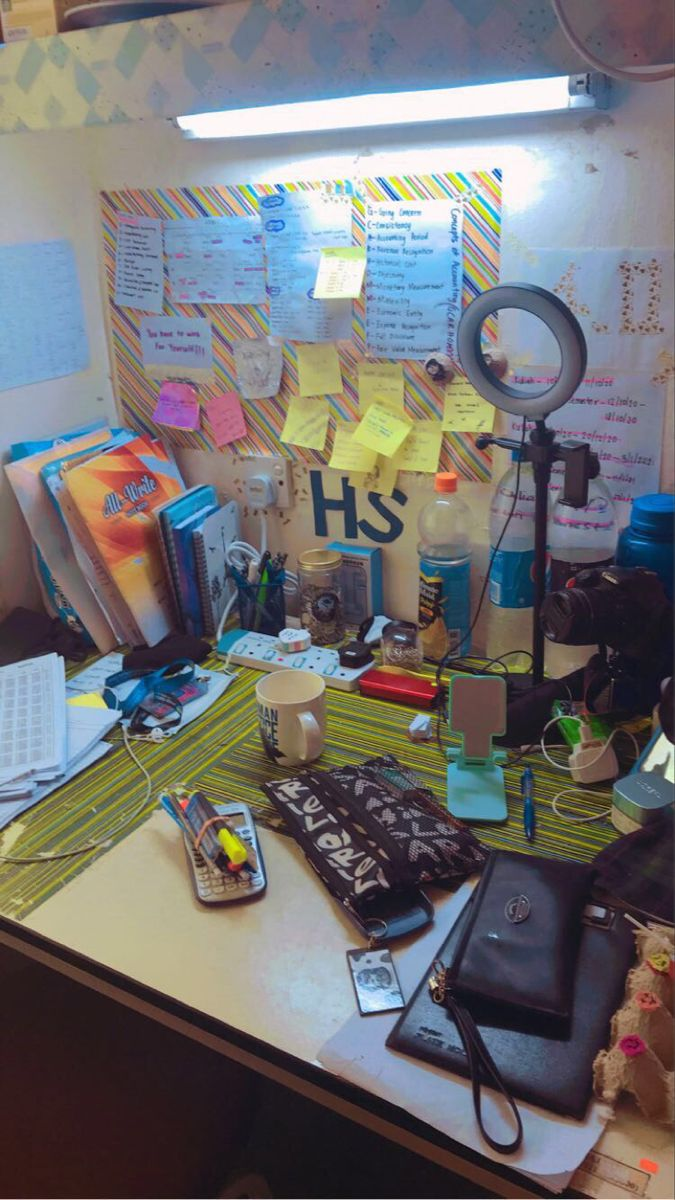not a gesture sign: (435, 216, 669, 784)
